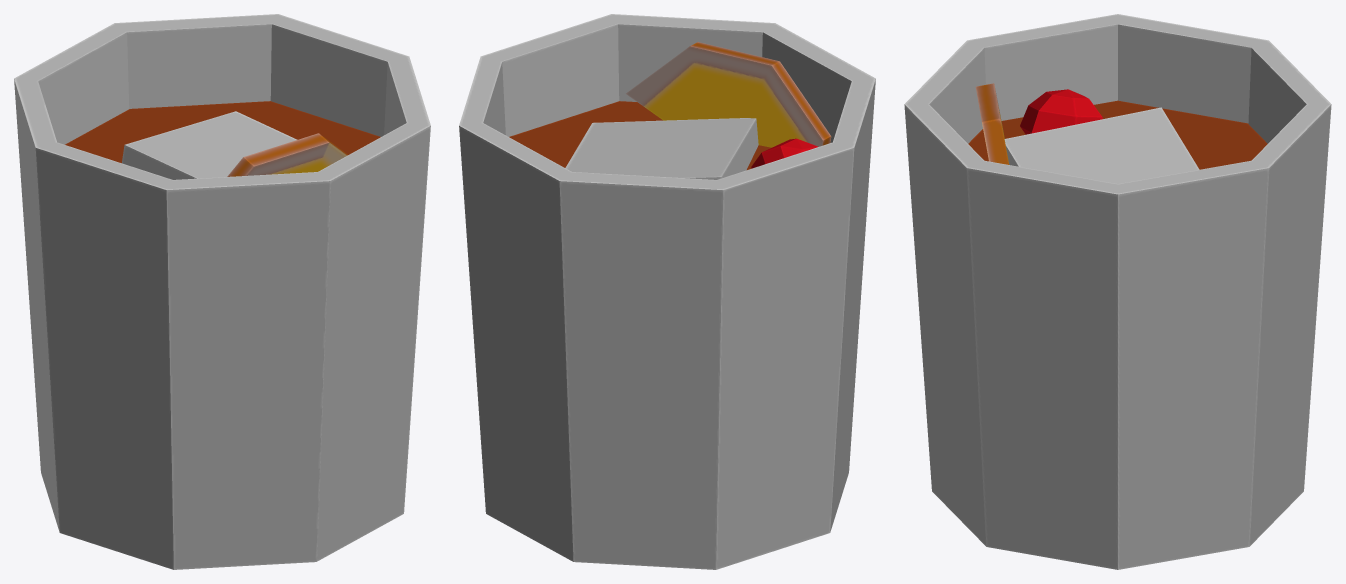
The model's file is OldFashioned.obj.
3 views of the same model, side by side, from view 1: azimuth 30°, elevation 25°; view 2: azimuth 150°, elevation 25°; view 3: azimuth 270°, elevation 25° (orthographic).
Parts seen in each view (by area): view 1: OldFashioned_mesh; view 2: OldFashioned_mesh; view 3: OldFashioned_mesh.
Boxes of the visible parts, x1,y1,x2,y2 form: OldFashioned_mesh: (14, 14, 430, 569); OldFashioned_mesh: (459, 14, 875, 569); OldFashioned_mesh: (904, 14, 1331, 569).
Size of the model in its own units: 2 by 2.02 by 2.
Materials: 1 (1 with a texture image).
